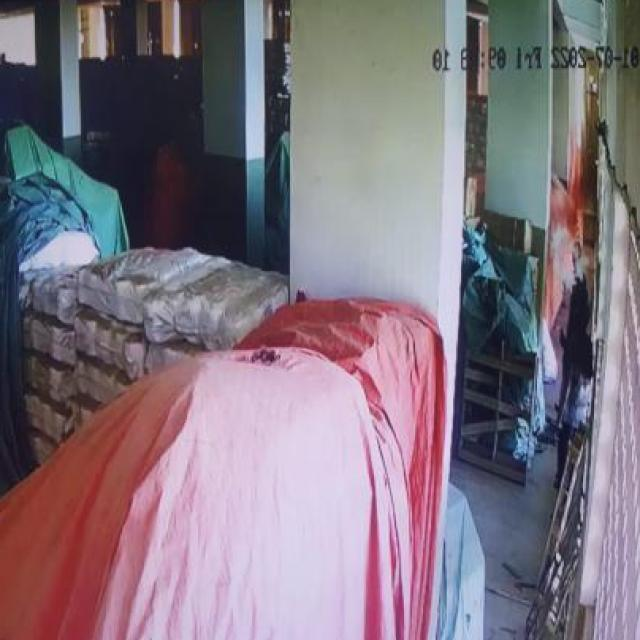fire: (542, 220, 596, 285)
